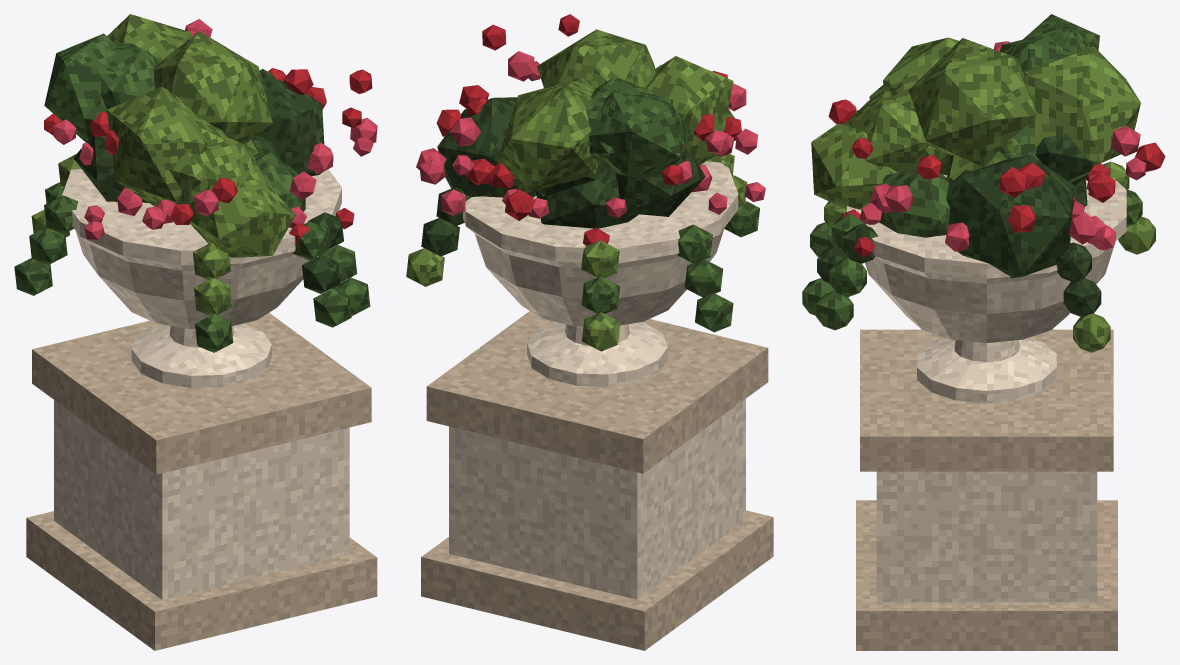
The model's file is flower_urn.glb.
The picture shows the model from 3 angles, left to right: view 1: azimuth 30°, elevation 25°; view 2: azimuth 150°, elevation 25°; view 3: azimuth 270°, elevation 25°; orthographic projection.
Visible parts, largest first — view 1: FlowerUrn; view 2: FlowerUrn; view 3: FlowerUrn.
Part boxes in pixels (x1,y1,x2,y2): FlowerUrn: (14, 14, 377, 650); FlowerUrn: (406, 14, 773, 650); FlowerUrn: (802, 14, 1165, 650).
Bounding box in the file's own units: 1.28 × 2.18 × 1.32.
8 materials, 8 textured.
